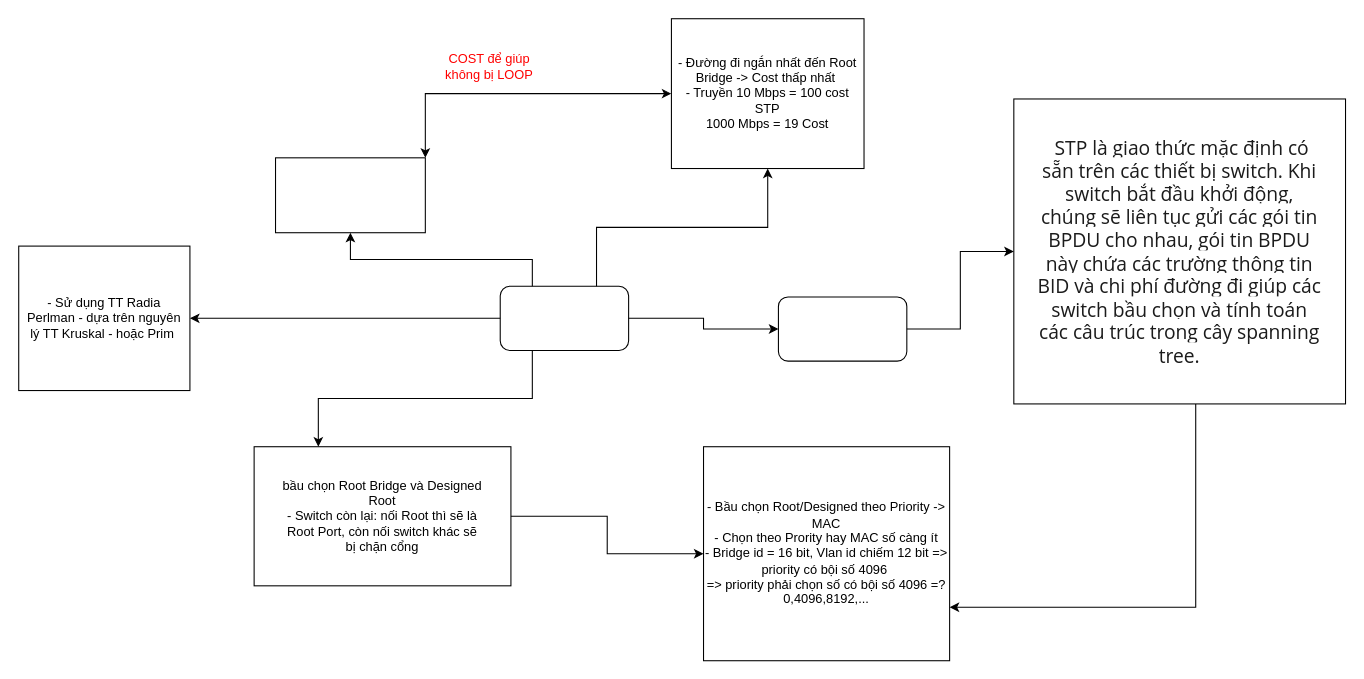
The diagram is 1364 pixels wide and 679 high, and some of its shapes have lost their labels. Each missing label, with the centre of its shape:
BPDU: pixel 842 328
Giao thức tầng 2 để ngăn vòng lặp loop trong Switch: pixel 349 195
STP: pixel 564 317
